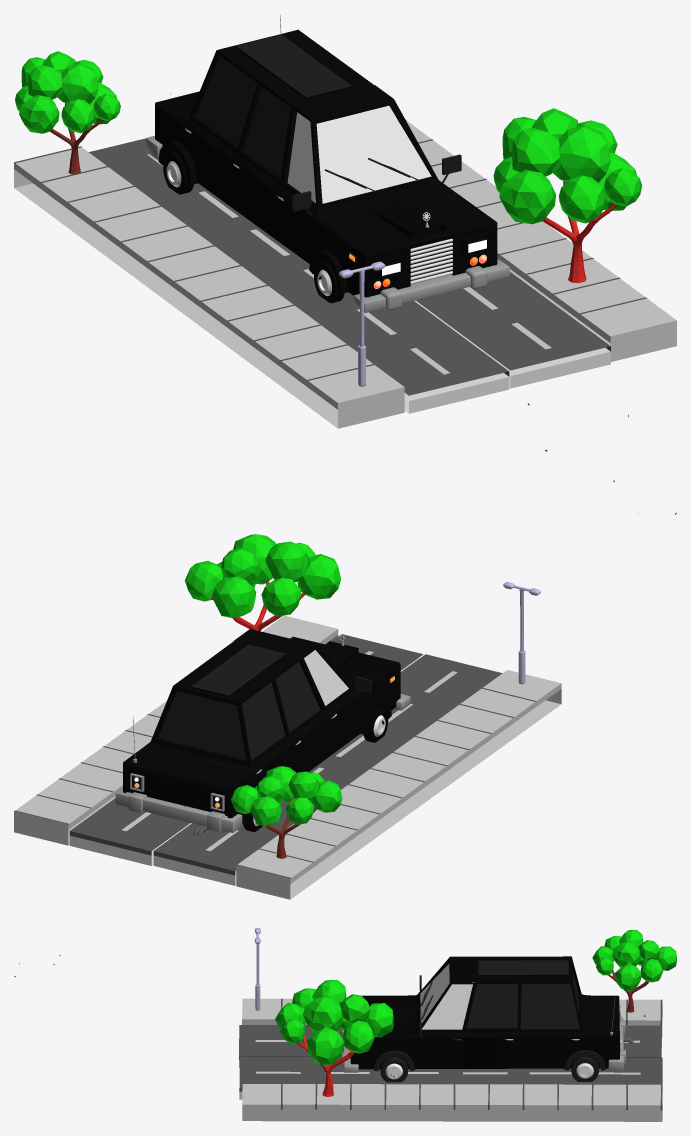
Rendered from limo2.glb.
3 views of the same model, one above another, from view 1: azimuth 30°, elevation 25°; view 2: azimuth 150°, elevation 25°; view 3: azimuth 270°, elevation 25° (orthographic). The views are drawn at different scales.
Parts seen in each view (by area): view 1: Cube, Plane.155, Plane.001, Plane.002, Plane.300, Cube_4, Sweep_1, Cloner_1, Cylinder; view 2: Cube, Plane.155, Plane.001, Plane.002, Plane.300, Cube.002, Cube_5, Cylinder; view 3: Plane.001, Cube, Plane.300, Plane.155, Cube.001, Plane.002, Cube.002, Cylinder_2, Sweep, Cube_5.
Part boxes in pixels (x1,y1,x2,y2): Cube: (155, 29, 497, 297); Plane.155: (14, 51, 404, 428); Plane.001: (170, 92, 676, 361); Plane.002: (89, 138, 509, 413); Plane.300: (414, 272, 610, 388); Cube_4: (353, 259, 509, 312); Sweep_1: (158, 140, 197, 194); Cloner_1: (410, 238, 452, 284); Cylinder: (309, 249, 348, 303); Cube: (123, 629, 400, 818); Plane.155: (231, 582, 561, 899); Plane.001: (14, 534, 340, 845); Plane.002: (153, 654, 502, 885); Plane.300: (69, 634, 423, 865); Cube.002: (125, 716, 252, 791); Cube_5: (115, 788, 242, 832); Cylinder: (360, 698, 391, 742); Plane.001: (242, 979, 662, 1121); Cube: (350, 956, 619, 1069); Plane.300: (239, 1056, 662, 1099); Plane.155: (242, 928, 676, 1036); Cube.001: (415, 982, 475, 1068); Plane.002: (239, 1025, 661, 1067); Cube.002: (584, 995, 618, 1036); Cylinder_2: (373, 1050, 415, 1082); Sweep: (564, 1050, 605, 1081); Cube_5: (608, 1017, 625, 1070).
Size of the model in its own units: 5.87 by 2.62 by 13.46.
30 materials, 4 textured.
